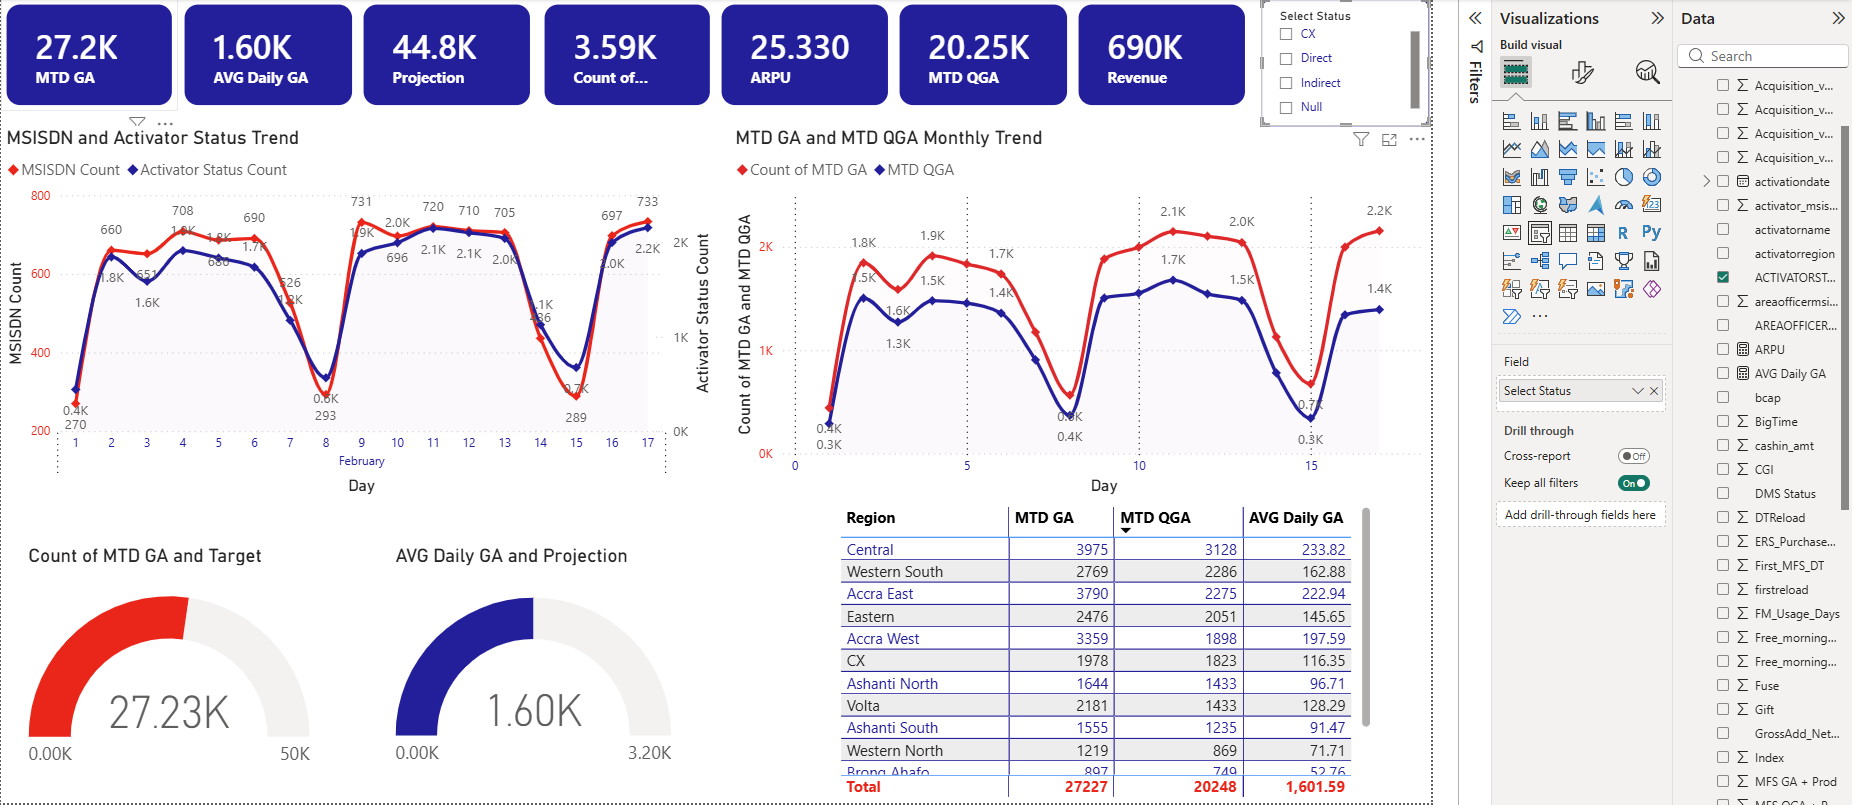

The page's visual inventory and layout, read from the dashboard file:
{"tool":"powerbi","page":{"name":"Page 1","canvas":[1280,720],"ordinal":1},"visuals":[{"type":"cardVisual","fields":{"Data":["Count(Data.MTD GA)"]},"box":[0,0,158.5,100.3],"z":0},{"type":"cardVisual","fields":{"Data":["Data.Average Per Date"]},"box":[159.4,0,160.3,100.3],"z":1000},{"type":"cardVisual","fields":{"Data":["Data.Projection"]},"box":[319.7,0,159.4,100.3],"z":2000},{"type":"cardVisual","fields":{"Data":["Data.MTD QGA"]},"box":[799.7,0,160.3,100.3],"z":3000},{"type":"cardVisual","fields":{"Data":["Count(Data.activator_msisdn)"]},"box":[481.8,0,158.5,100.3],"z":4000},{"type":"cardVisual","fields":{"Data":["Sum(Data.Revenue)"]},"box":[960,0,159.4,100.3],"z":5000},{"type":"cardVisual","fields":{"Data":["Data.ARPU"]},"box":[640.3,0,159.4,100.3],"z":6000},{"type":"tableEx","fields":{"Values":["Data.activatorregion","Count(Data.MTD GA)","Data.MTD QGA","Data.AVD Daily GA"]},"box":[755.7,449.4,433.8,270.4],"z":7000},{"type":"gauge","fields":{"Y":["Count(Data.MTD GA)"],"MaxValue":["Data.Target"]},"box":[19.5,488.3,261.6,231.5],"z":8000},{"type":"lineChart","fields":{"Y":["Count(Data.MTD GA)","Data.MTD QGA"],"Category":["Data.activationdate.Variation.Date Hierarchy.Day"]},"box":[652.6,113.8,627.4,335.6],"z":9000},{"type":"lineChart","title":"MSISDN Count and Activator Status Count by Day","fields":{"Y":["Count(Data.activator_msisdn)"],"Y2":["CountNonNull(Data.ACTIVATORSTATUS)"],"Category":["Data.activationdate.Variation.Date Hierarchy.Month","Data.activationdate.Variation.Date Hierarchy.Day"]},"box":[0,113.8,640,335.6],"z":10000},{"type":"gauge","fields":{"Y":["Data.AVD Daily GA"],"TargetValue":["Data.Projection"]},"box":[348.2,488.3,256.8,231.5],"z":11000},{"type":"slicer","fields":{"Values":["Data.ACTIVATORSTATUS"]},"box":[1128.4,0,151.3,113.7],"z":12000}]}

Visuals, with their boxes on the page's 1280x720 design canvas (x1, y1, x2, y2). These are canvas units, not pixel positions in the 1852x805 screenshot, which may show the page scaled, cropped or inside an application window:
cardVisual - Count(Data.MTD GA): pyautogui.locateOnScreen(0, 0, 158, 100)
cardVisual - Data.Average Per Date: pyautogui.locateOnScreen(159, 0, 320, 100)
cardVisual - Data.Projection: pyautogui.locateOnScreen(320, 0, 479, 100)
cardVisual - Data.MTD QGA: pyautogui.locateOnScreen(800, 0, 960, 100)
cardVisual - Count(Data.activator_msisdn): pyautogui.locateOnScreen(482, 0, 640, 100)
cardVisual - Sum(Data.Revenue): pyautogui.locateOnScreen(960, 0, 1119, 100)
cardVisual - Data.ARPU: pyautogui.locateOnScreen(640, 0, 800, 100)
tableEx - Data.activatorregion x Count(Data.MTD GA): pyautogui.locateOnScreen(756, 449, 1190, 720)
gauge - Count(Data.MTD GA) x Data.Target: pyautogui.locateOnScreen(20, 488, 281, 720)
lineChart - Count(Data.MTD GA) x Data.MTD QGA: pyautogui.locateOnScreen(653, 114, 1280, 449)
"MSISDN Count and Activator Status Count by Day" lineChart: pyautogui.locateOnScreen(0, 114, 640, 449)
gauge - Data.AVD Daily GA x Data.Projection: pyautogui.locateOnScreen(348, 488, 605, 720)
slicer - Data.ACTIVATORSTATUS: pyautogui.locateOnScreen(1128, 0, 1280, 114)
